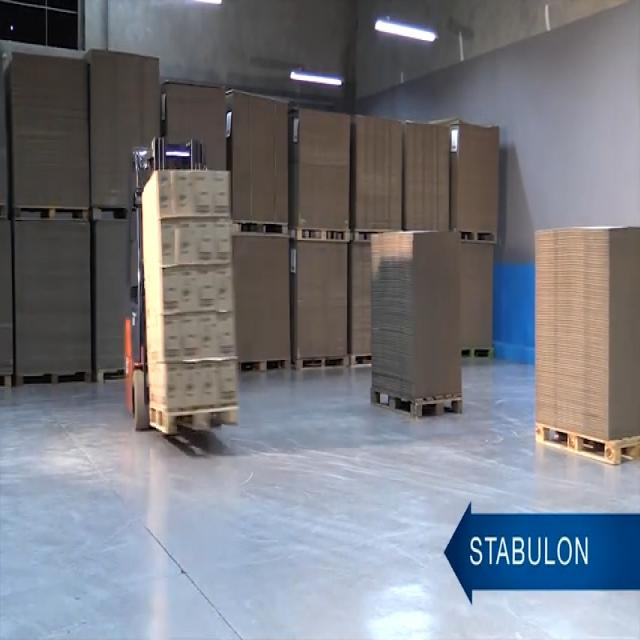Chariot elevateur: (122, 130, 206, 438)
Palette: (530, 417, 640, 471), (367, 388, 468, 417), (146, 407, 243, 436), (14, 366, 95, 394), (291, 348, 352, 379), (11, 202, 94, 222), (292, 223, 352, 248), (237, 357, 291, 379), (92, 201, 131, 231), (234, 219, 292, 237), (457, 225, 502, 247), (351, 222, 386, 250), (350, 348, 375, 379), (458, 346, 492, 366), (99, 363, 127, 385)
